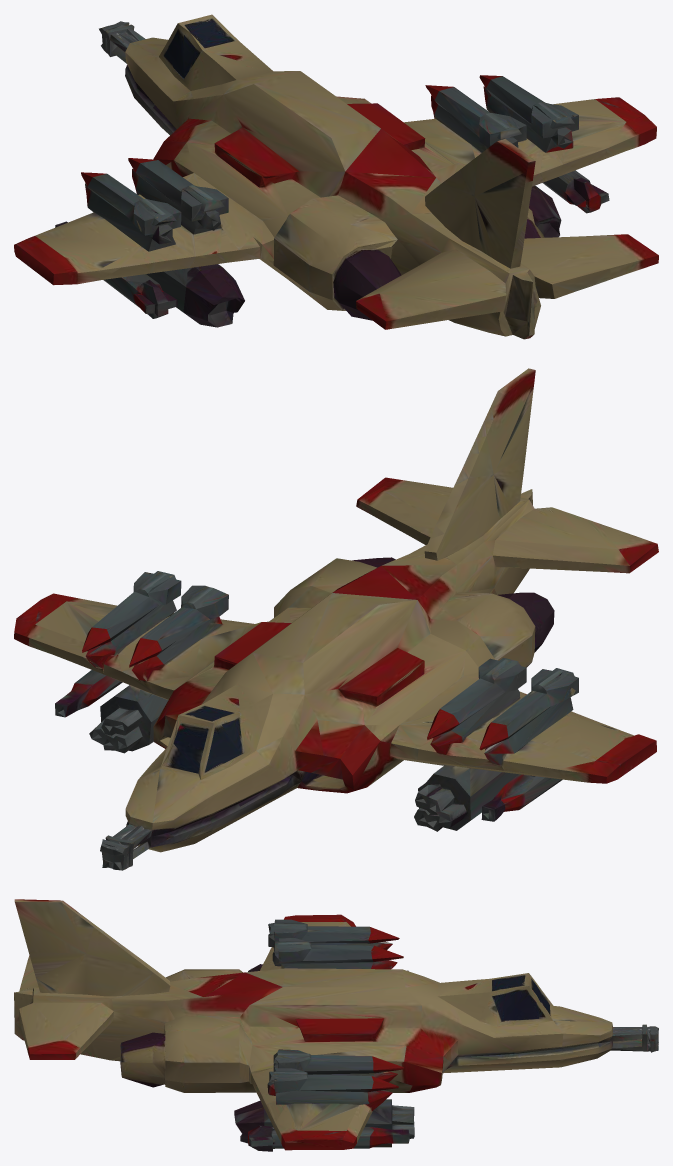
File: boss2_gunship_lite.glb
3 renders of one model, top to bottom at view 1: azimuth 30°, elevation 25°; view 2: azimuth 150°, elevation 25°; view 3: azimuth 270°, elevation 25°, orthographic. The views are drawn at different scales.
Parts seen in each view (by area): view 1: Boss2; view 2: Boss2; view 3: Boss2.
Boxes of the visible parts, bbox=[...] form: Boss2: bbox=[14, 14, 658, 339]; Boss2: bbox=[14, 368, 658, 870]; Boss2: bbox=[14, 899, 658, 1151].
Size of the model in its own units: 5.8 by 2.2 by 7.02.
Materials: 1 (1 with a texture image).
